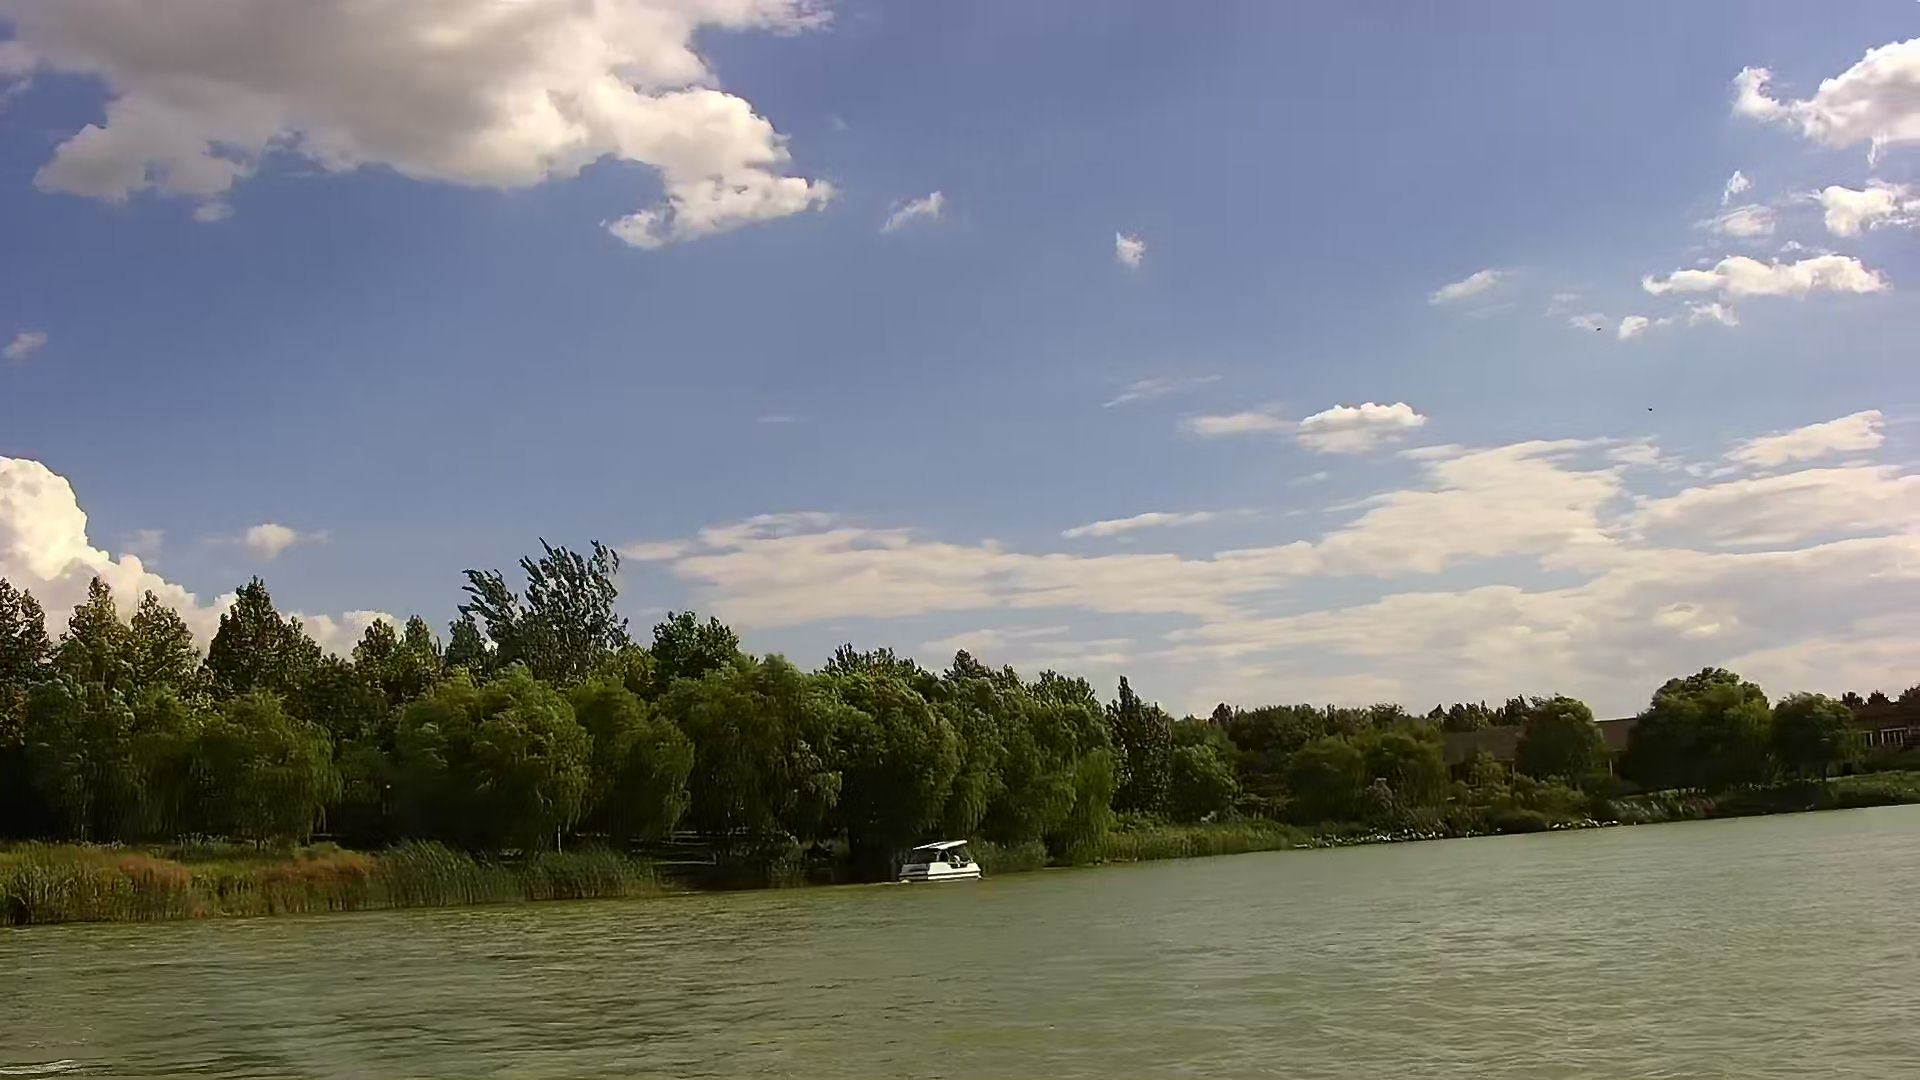boat: (897, 840, 981, 887)
